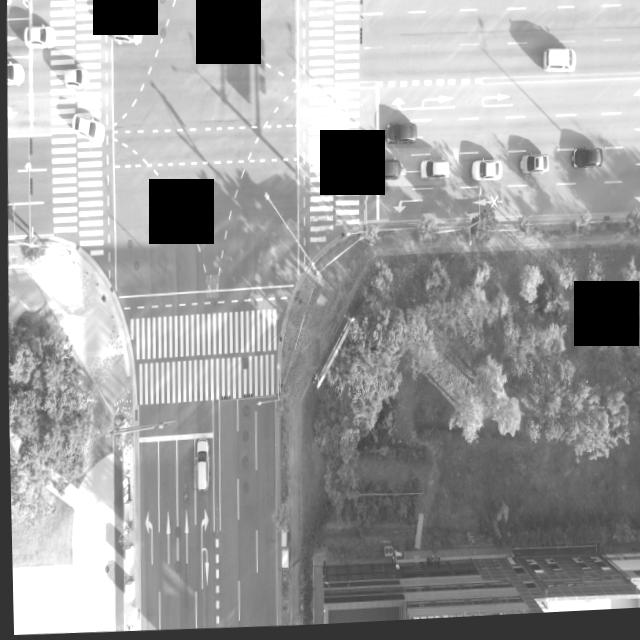car: (71, 113, 105, 148), (537, 55, 576, 85), (106, 18, 141, 50), (20, 23, 58, 50), (190, 438, 206, 495), (384, 125, 414, 151), (61, 61, 90, 87), (569, 152, 599, 176), (368, 162, 396, 185), (469, 164, 497, 187), (519, 159, 548, 180), (419, 163, 448, 184), (6, 61, 23, 85), (492, 0, 522, 6), (577, 0, 616, 2), (539, 0, 573, 2), (626, 0, 640, 3)
